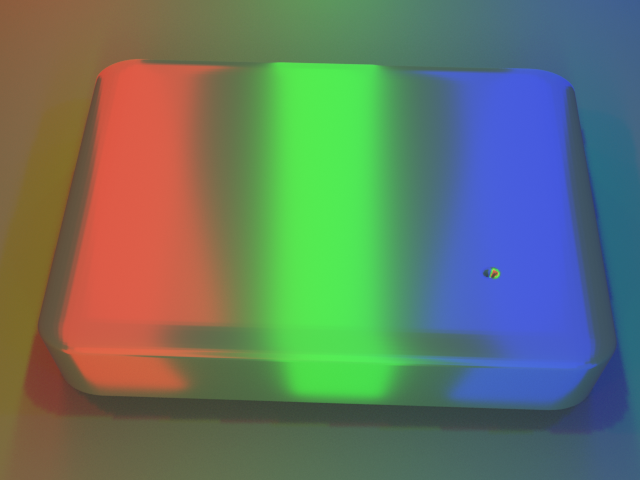dent: (490, 259, 529, 298)
